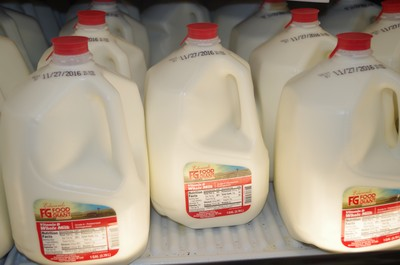milk: (18, 49, 148, 262), (146, 36, 275, 229), (285, 42, 400, 249), (70, 9, 155, 74), (257, 12, 335, 70), (370, 4, 400, 58)
